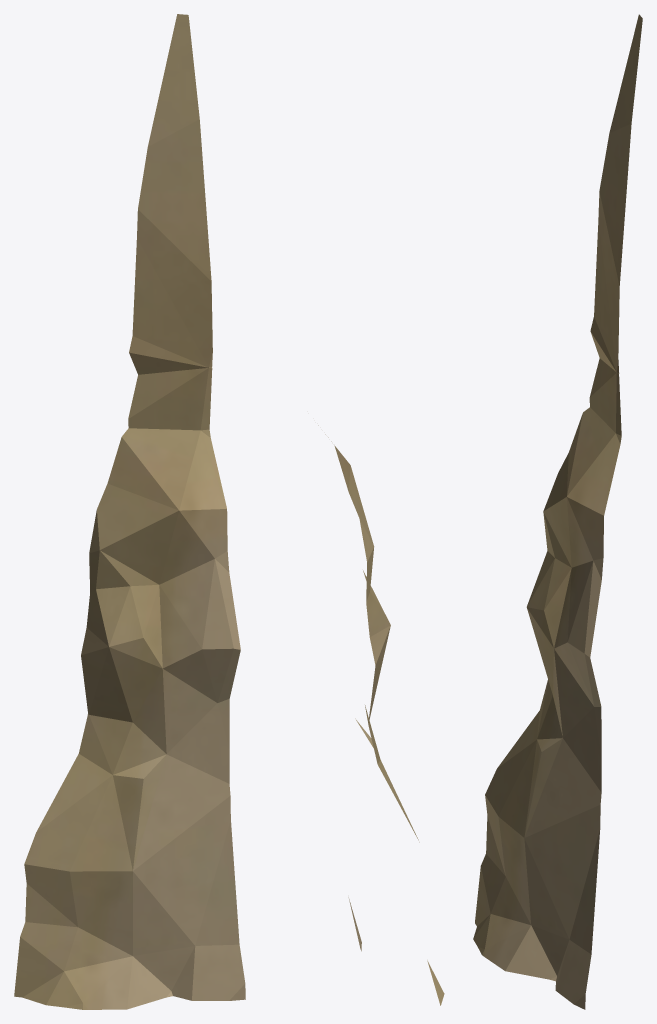
3 renders of one model, left to right at view 1: azimuth 30°, elevation 25°; view 2: azimuth 150°, elevation 25°; view 3: azimuth 330°, elevation 25°, orthographic.
Bounding box in the file's own units: 0.3173 × 1.67 × 0.1964.
Materials: 1 (1 with a texture image).
